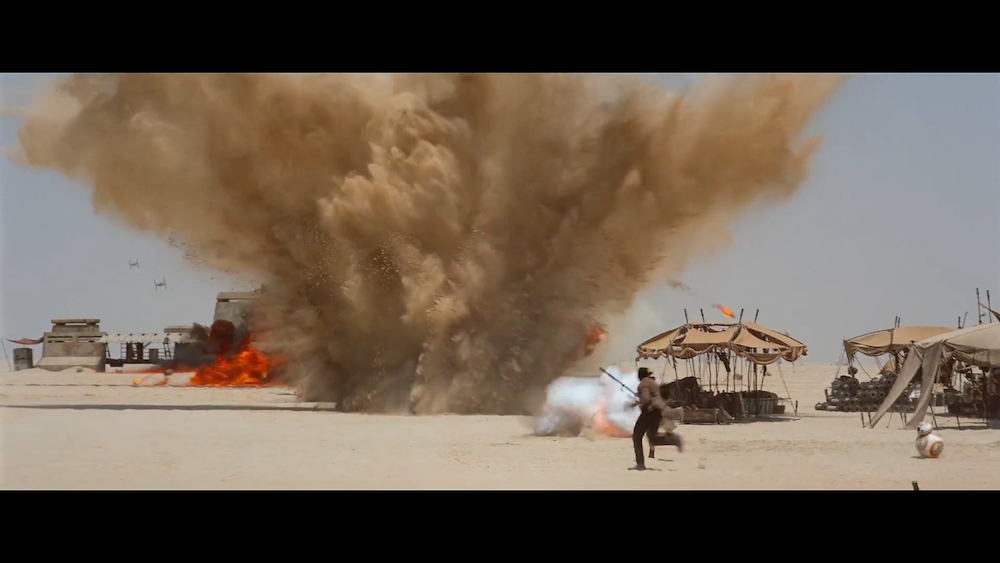Tie Fighter: (154, 278, 167, 292), (129, 261, 140, 270)
